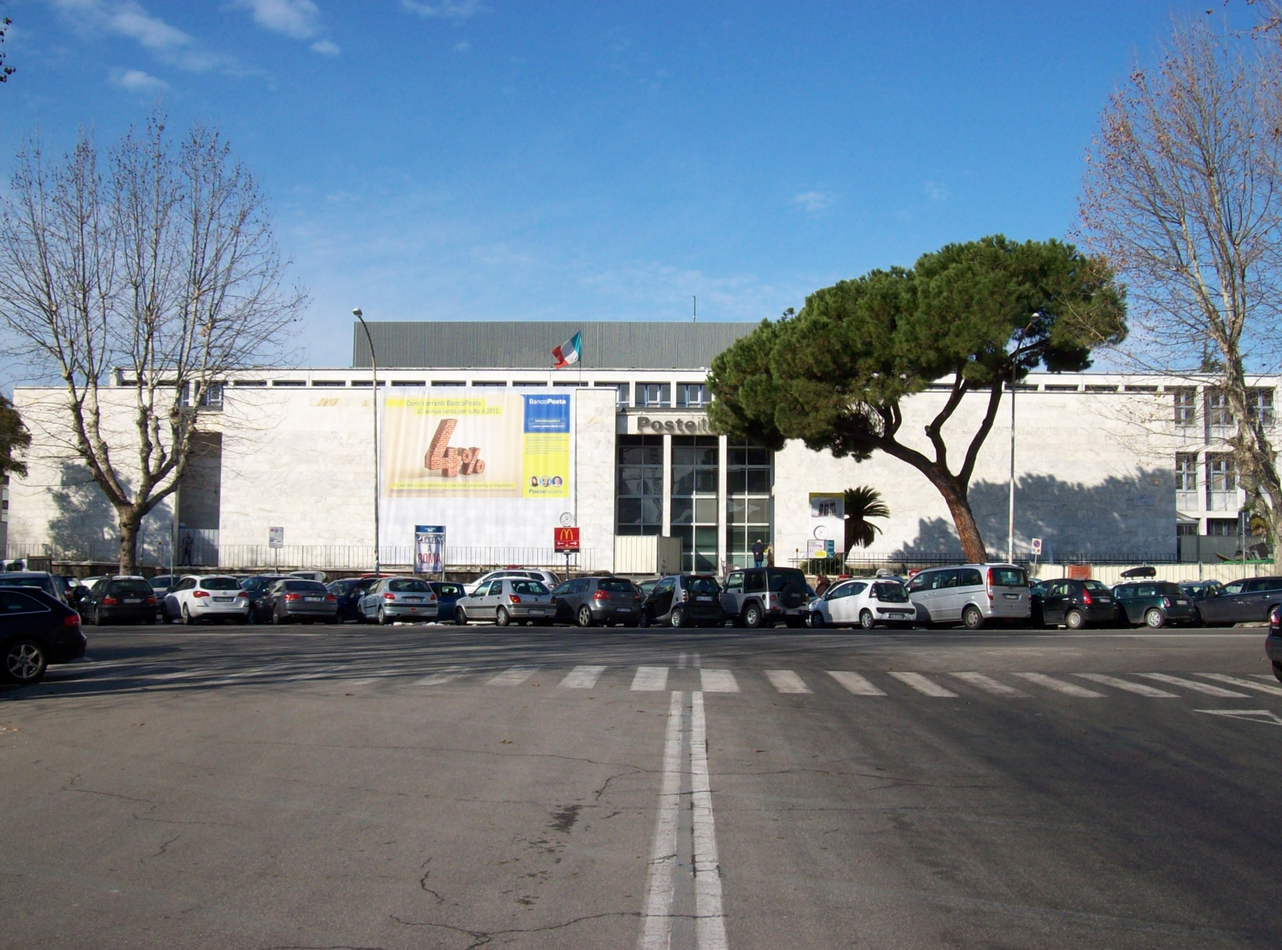fachada: (11, 315, 1282, 577)
poste: (307, 291, 425, 598), (540, 320, 609, 579), (999, 334, 1052, 569)
